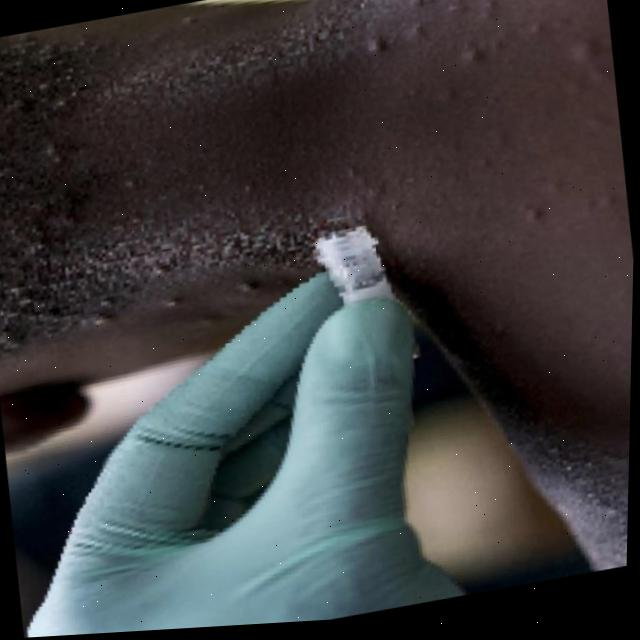Eczema: (39, 0, 636, 337)
